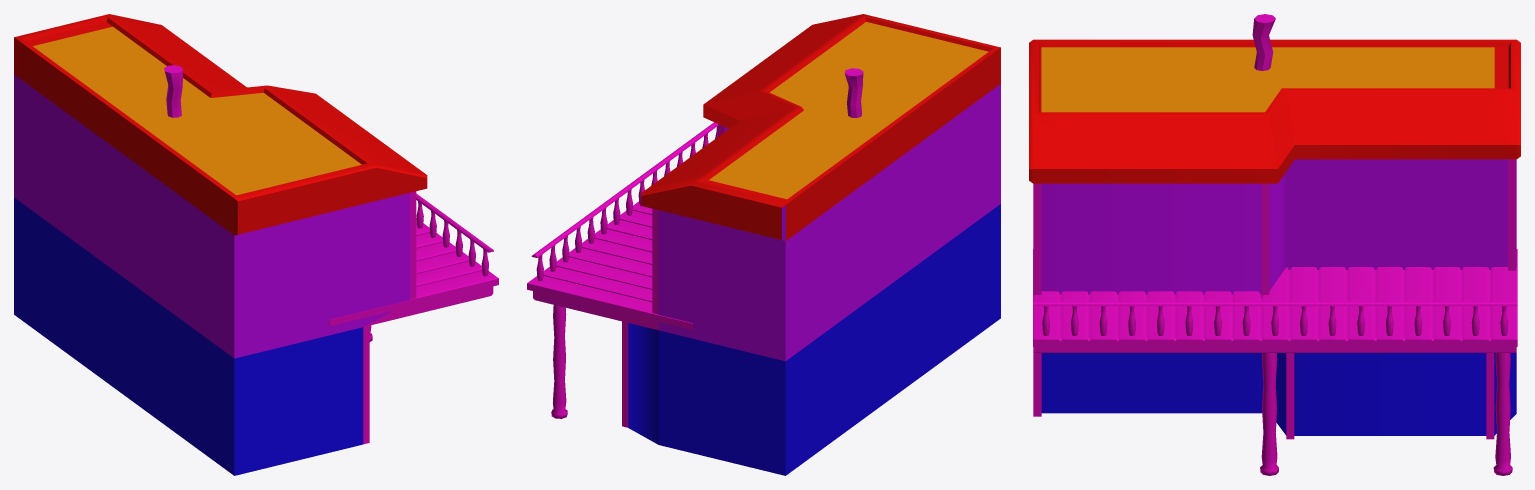
The model's file is GenericShop.fbx.
3 views of the same model, side by side, from view 1: azimuth 30°, elevation 25°; view 2: azimuth 150°, elevation 25°; view 3: azimuth 270°, elevation 25° (orthographic). The views are drawn at different scales.
Parts seen in each view (by area): view 1: MasterBuilding_B; view 2: MasterBuilding_B; view 3: MasterBuilding_B.
Boxes of the visible parts, bbox=[...] form: MasterBuilding_B: bbox=[14, 14, 498, 475]; MasterBuilding_B: bbox=[527, 14, 1000, 475]; MasterBuilding_B: bbox=[1029, 14, 1520, 475].
Bounding box in the file's own units: 996 × 1148 × 1461.
